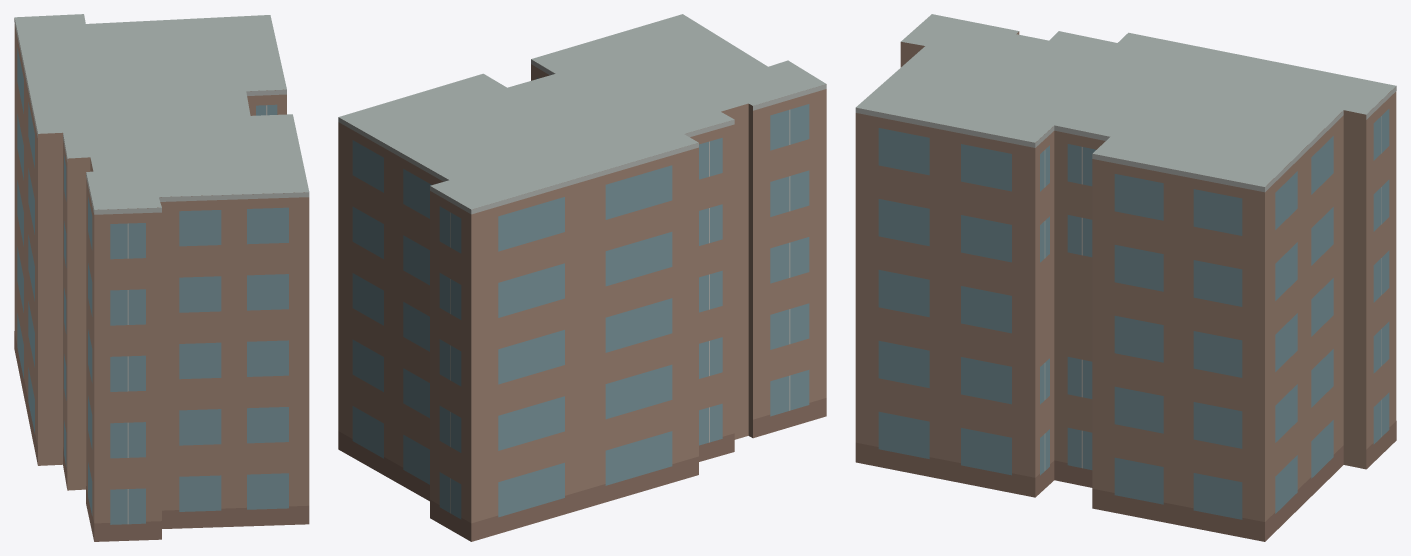
Rendered from survey-upis-32668618.glb.
3 views of the same model, side by side, from view 1: azimuth 30°, elevation 25°; view 2: azimuth 150°, elevation 25°; view 3: azimuth 270°, elevation 25° (orthographic). The views are drawn at different scales.
Visible parts, largest first — view 1: survey-upis-32668618.tmp; view 2: survey-upis-32668618.tmp; view 3: survey-upis-32668618.tmp.
Part boxes in pixels (bbox=[...]): survey-upis-32668618.tmp: bbox=[14, 14, 309, 541]; survey-upis-32668618.tmp: bbox=[338, 14, 826, 541]; survey-upis-32668618.tmp: bbox=[855, 14, 1396, 541].
Size of the model in its own units: 17.38 by 16.6 by 22.94.
